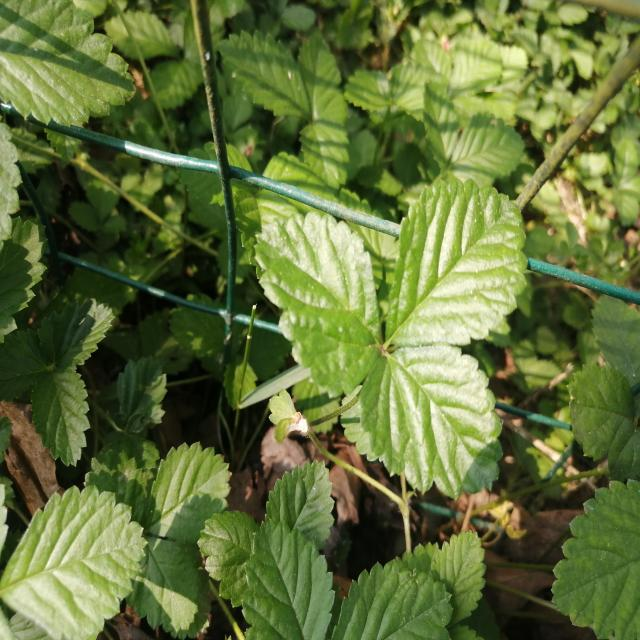Mock_strawberry: (260, 178, 533, 499)
